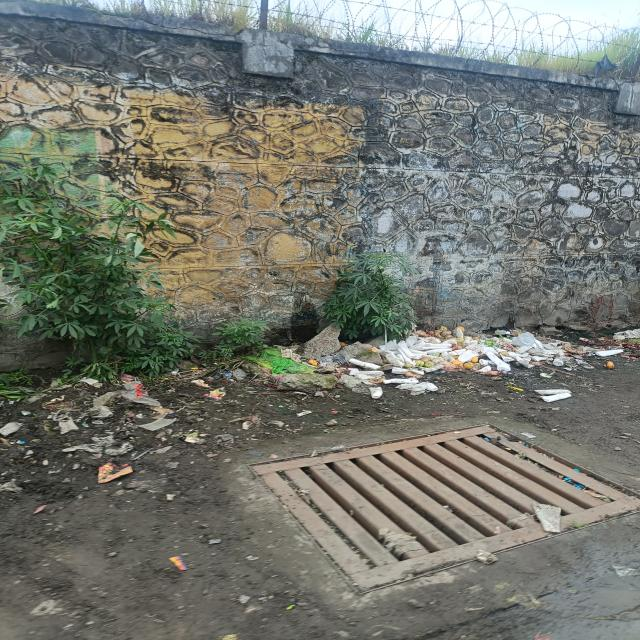garbage: (216, 318, 624, 397)
